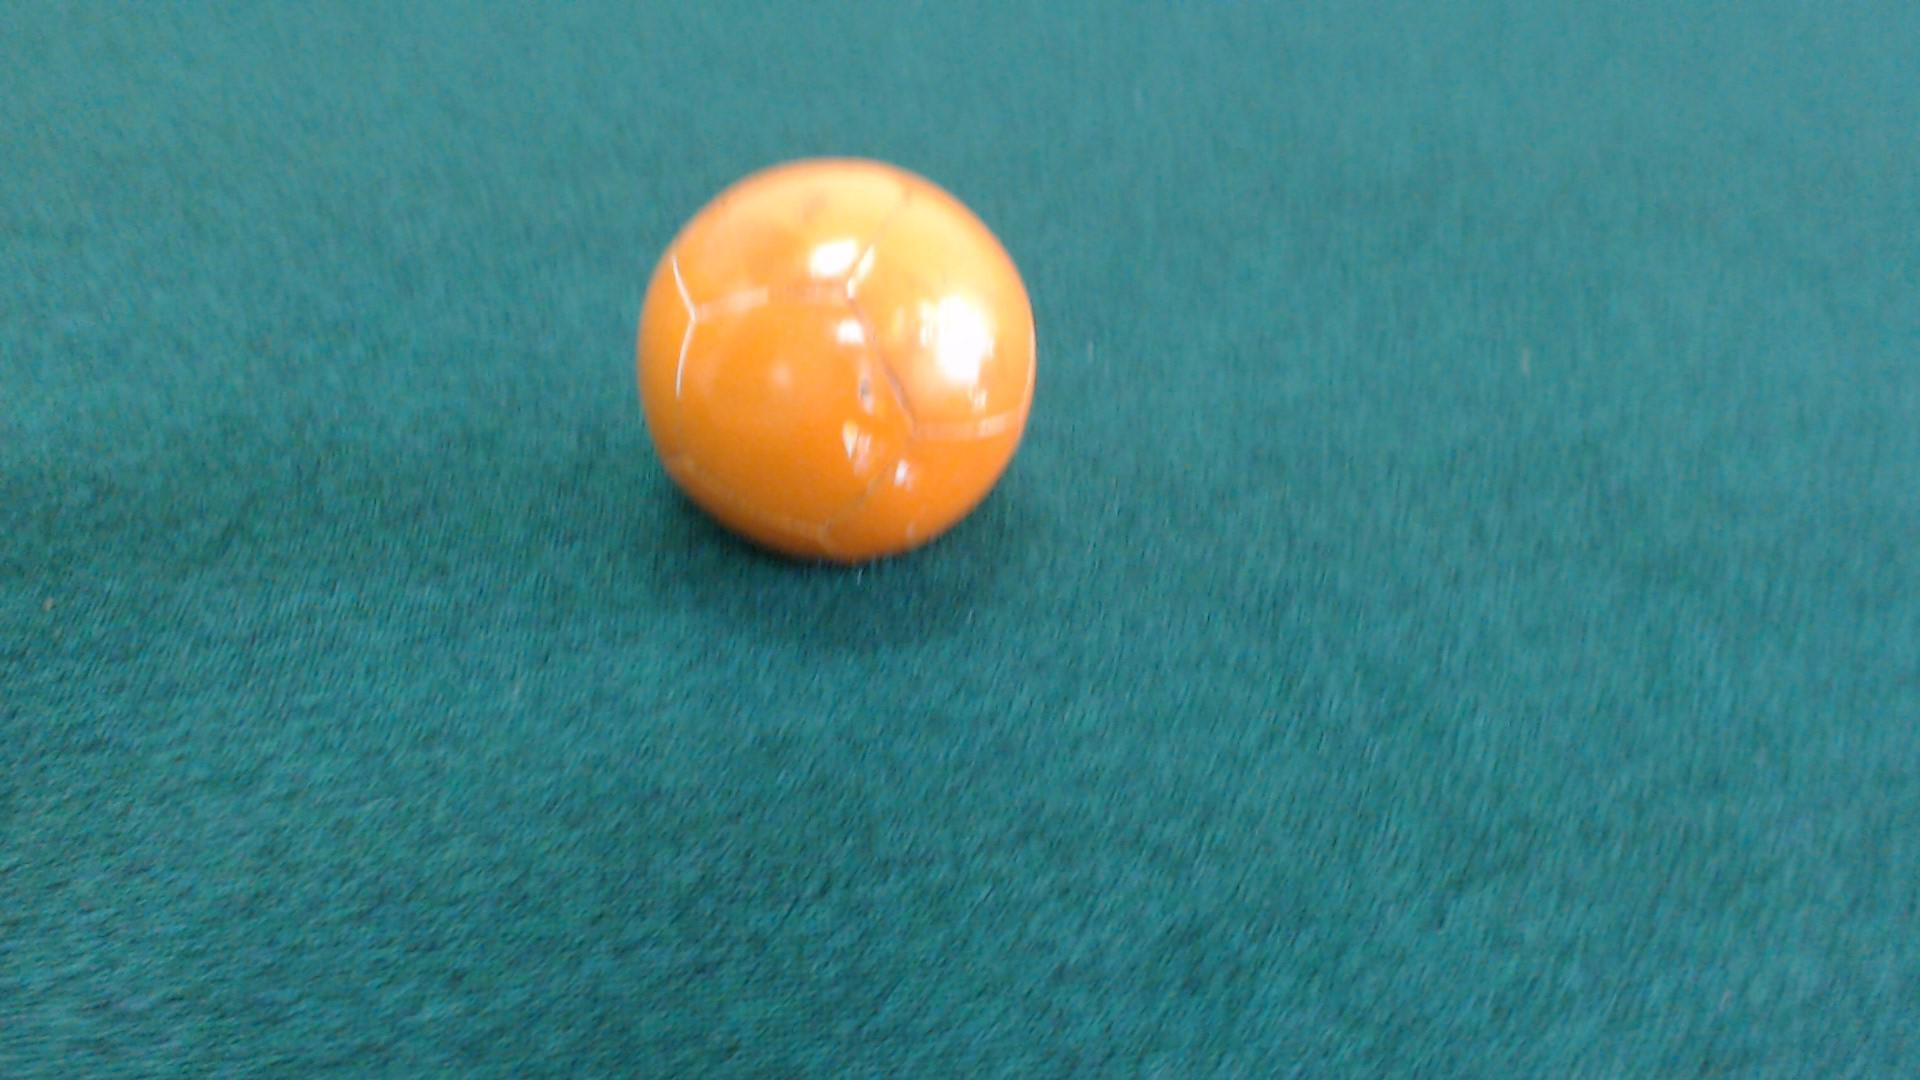bola: (579, 142, 1067, 568)
